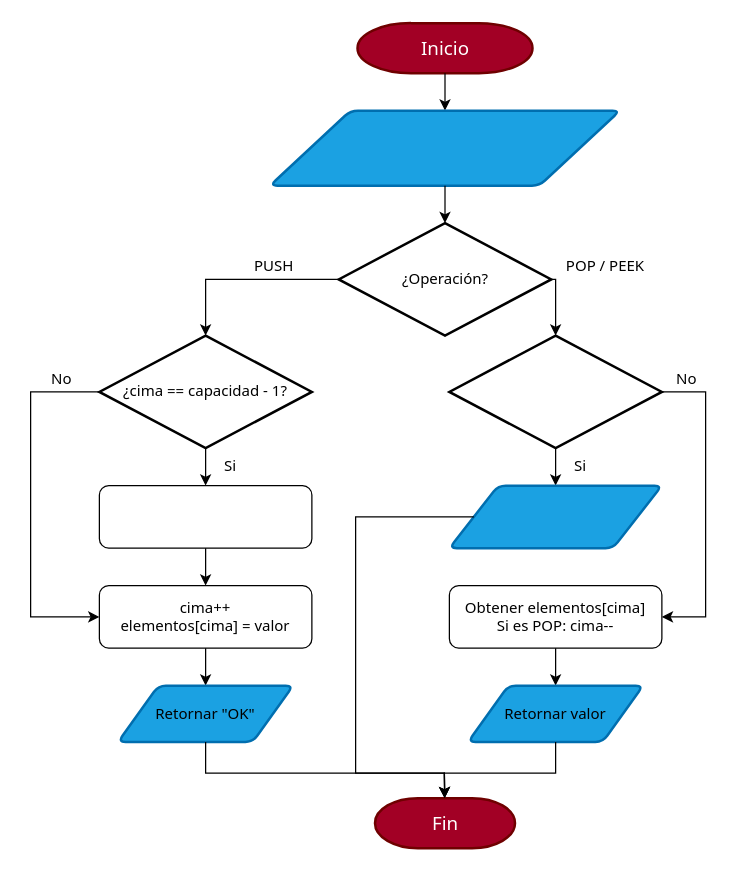
Image size: 738x870. Some labels were removed from this diagram. Here are the shapes that lost their labels. From the top down, the centre of each, then its label:
the point at 444,147: Recibir operacion y valor (si aplica)
the point at 555,391: ¿isEmpty()?
the point at 205,516: ampliarCapacidad() (Crear arreglo doble y copiar)
the point at 555,516: Retornar Double.NaN ("EMPTY")
